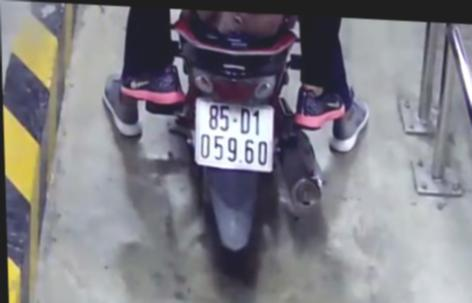License_Plate: (186, 89, 277, 174)
